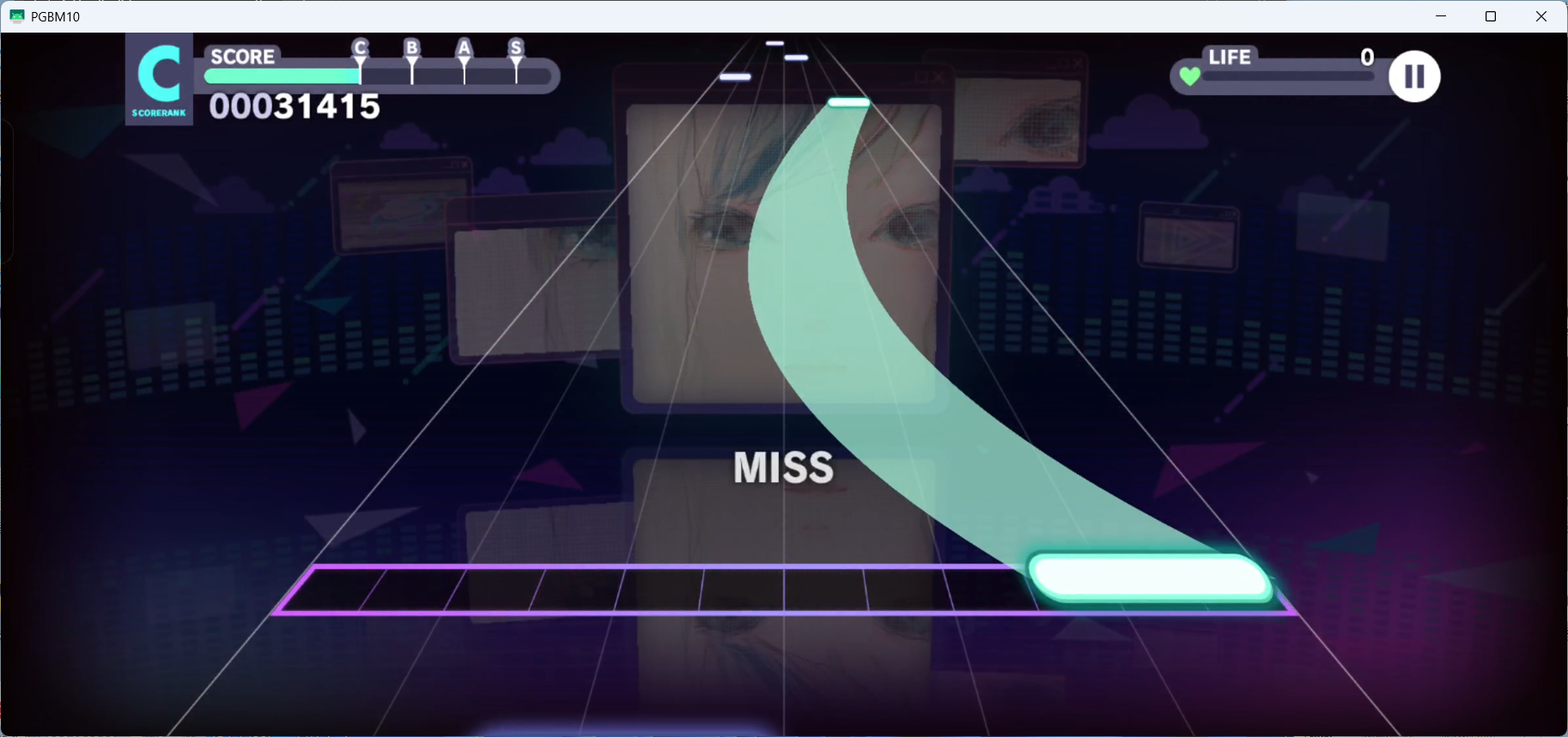hold: (746, 106, 1218, 554)
tap: (1027, 554, 1273, 607), (828, 97, 870, 107), (719, 73, 751, 81), (783, 54, 808, 61), (765, 40, 784, 45)
